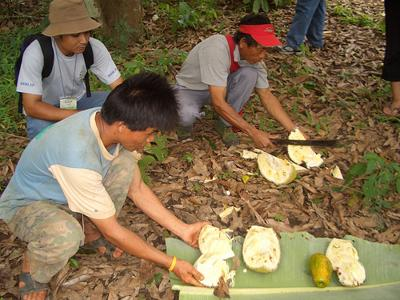person: (174, 14, 308, 150)
